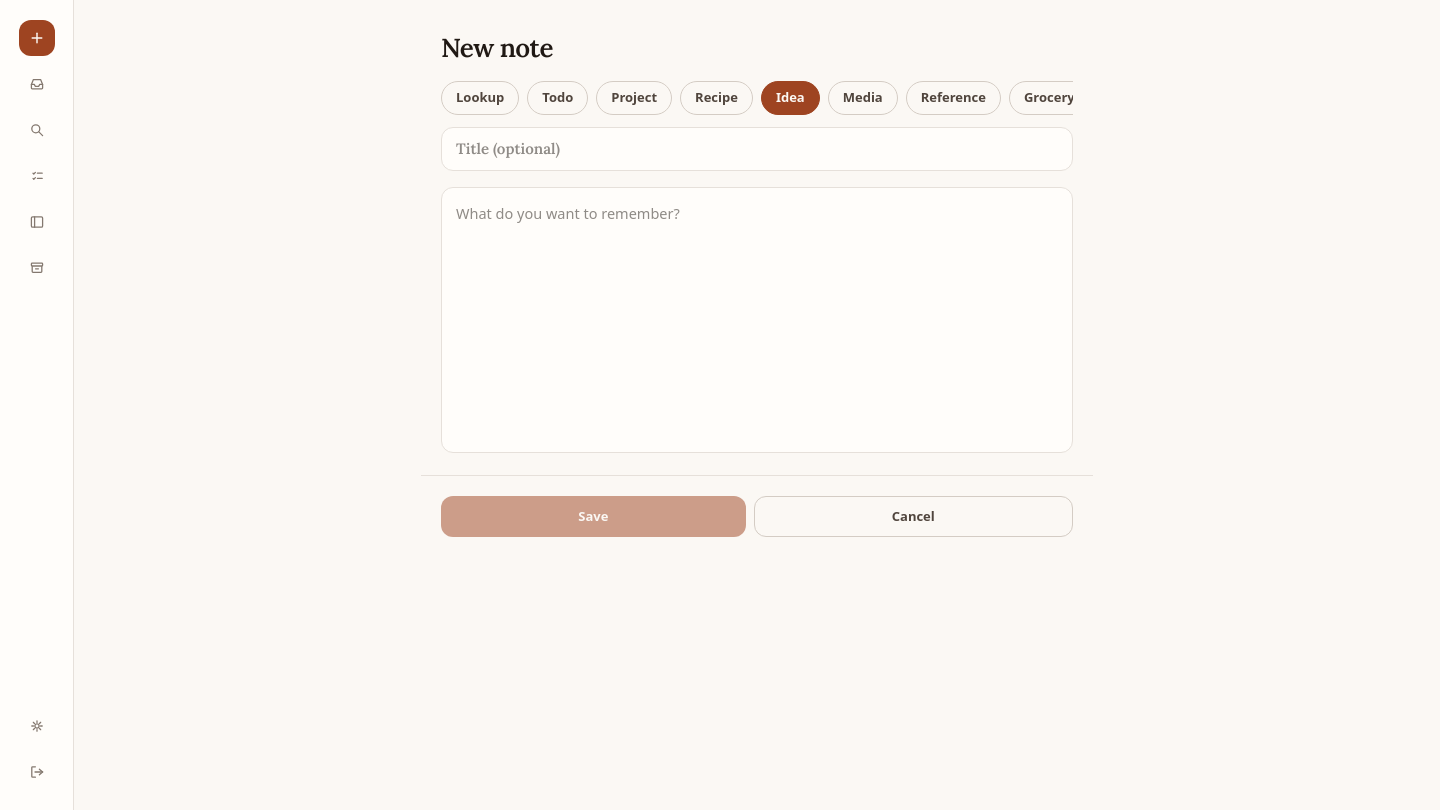
it: NewItem › shows an error and stays on the page when creation fails
Type "Something" into the text box with placeholder "What do you want to remember?" at point(757, 320), box [441, 187, 1073, 453]
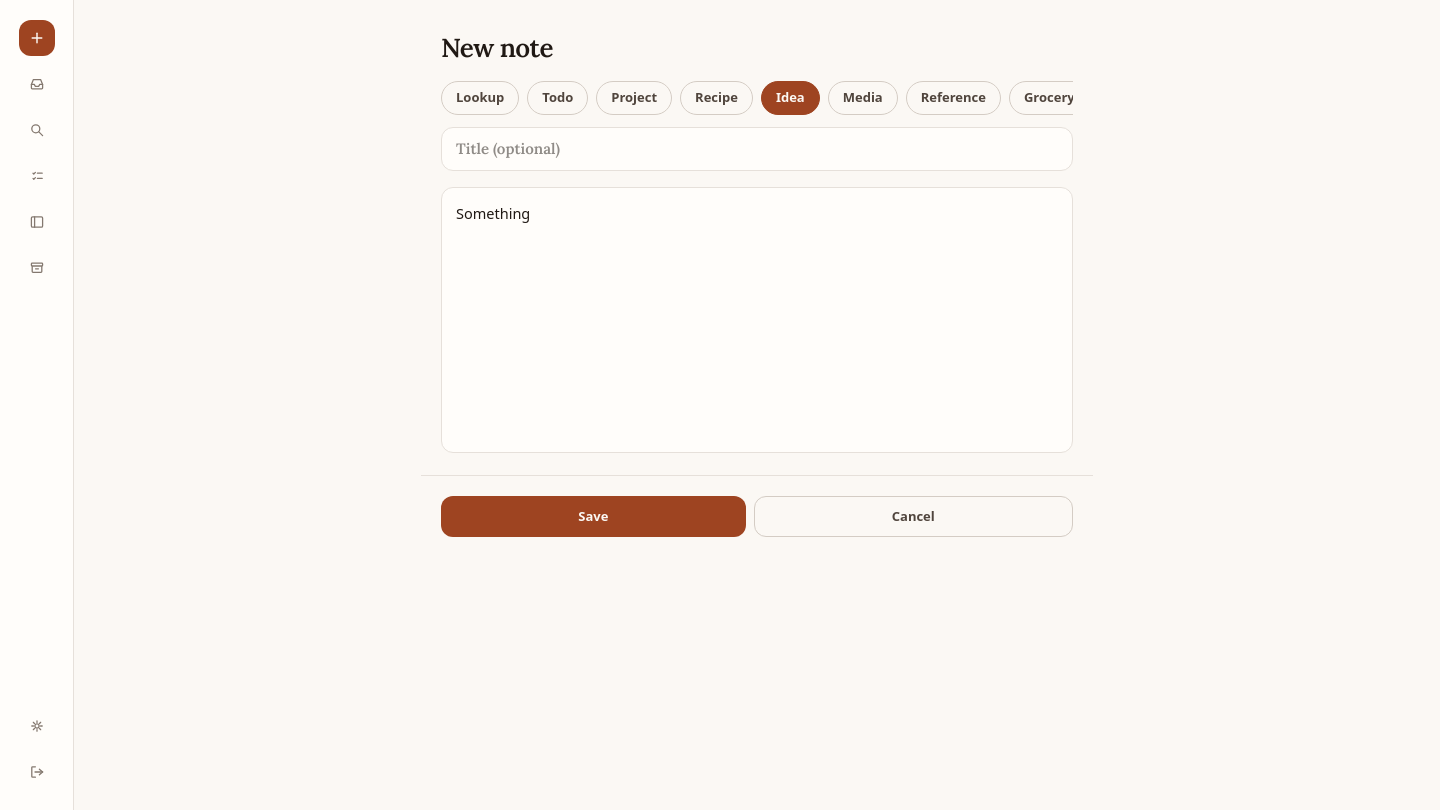
Click the button "Save" at point(593, 516), box [441, 496, 746, 537]
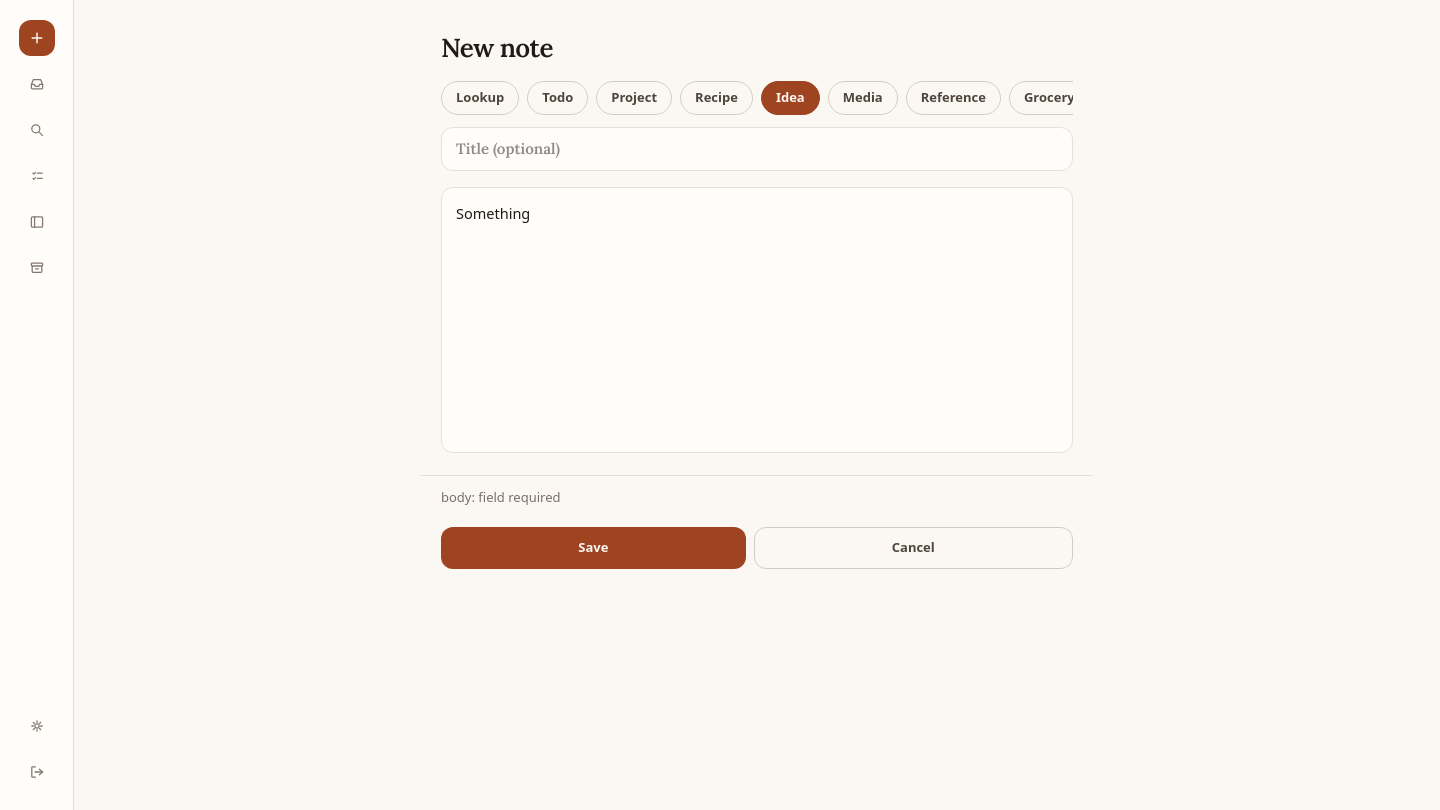
Expected: the text "body: field required" is shown, [441, 488, 560, 506]
